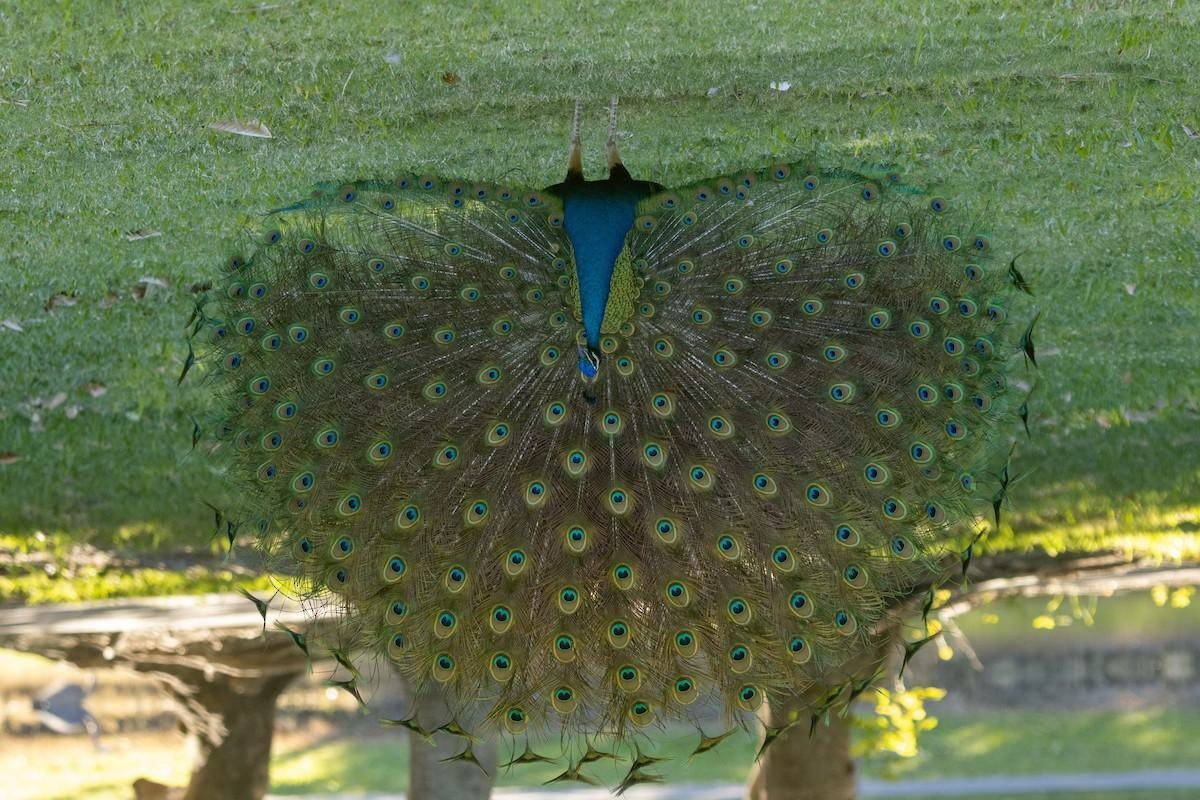peacock: (186, 132, 1011, 793)
